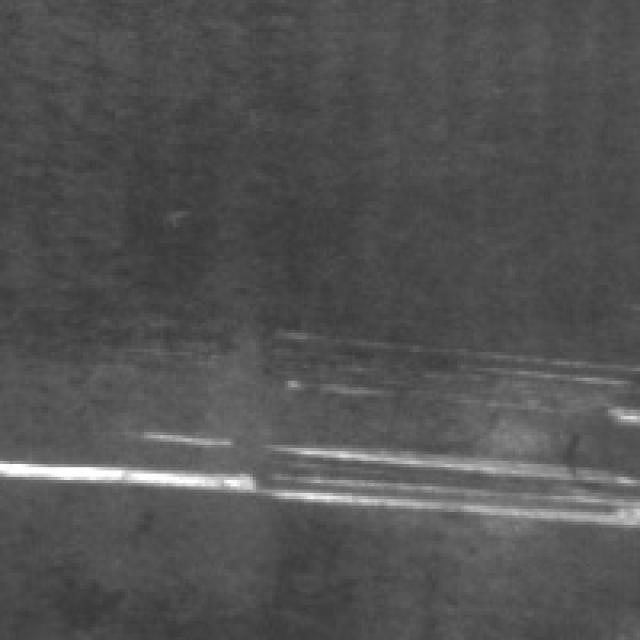scratches: (0, 429, 634, 531), (269, 320, 630, 416)
